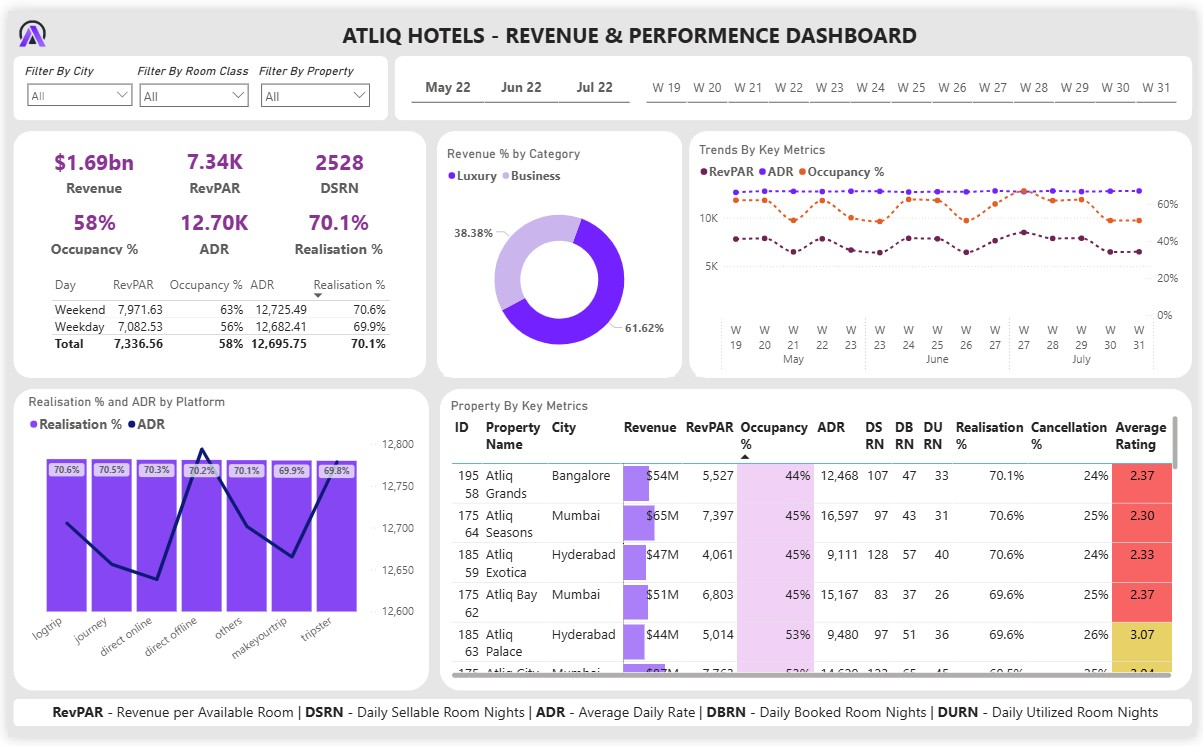

The page's visual inventory and layout, read from the dashboard file:
{"tool":"powerbi","page":{"name":"Dashboard","canvas":[1800,1100],"ordinal":0},"visuals":[{"type":"shape","box":[8,1042,1786,42],"z":0},{"type":"shape","box":[654.5,572.3,1140,458],"z":1000},{"type":"shape","box":[8.5,572.3,630,458],"z":2000},{"type":"shape","box":[1032,182,762,374],"z":3000},{"type":"shape","box":[649.9,182.3,372,374],"z":4000},{"type":"shape","box":[586,68,1208,98],"z":5000},{"type":"shape","box":[8,182,626,374],"z":6000},{"type":"shape","box":[8,68,568,98],"z":7000},{"type":"tableEx","title":"Property By Key Metrics","fields":{"Values":["dim_hotels.property_id","dim_hotels.property_name","dim_hotels.city","Key_Measures.Revenue","Key_Measures.RevPAR","Key_Measures.Occupancy %","Key_Measures.ADR","Key_Measures.DSRN","Key_Measures.DBRN","Key_Measures.DURN","Key_Measures.Realisation %","Key_Measures.Cancellation %"]},"box":[666,586,1112,430],"z":8000},{"type":"slicer","title":"Filter By City","fields":{"Values":["dim_hotels.city"]},"box":[21,79.8,178,72],"z":9000},{"type":"slicer","title":"Filter By Room Class","fields":{"Values":["dim_rooms.room_class"]},"box":[191,79.8,184,72],"z":10000},{"type":"slicer","fields":{"Values":["dim_date.mmm yy"]},"box":[586,86,382,60],"z":11000},{"type":"slicer","fields":{"Values":["dim_date.week no"]},"box":[942,86,852,60],"z":12000},{"type":"card","fields":{"Values":["Key_Measures.Revenue"]},"box":[38.7,197.1,184,88],"z":13000},{"type":"donutChart","title":"Revenue % by Category","fields":{"Category":["dim_hotels.category"],"Y":["Key_Measures.Revenue"]},"box":[659.9,204.3,350,350],"z":14000},{"type":"card","fields":{"Values":["Key_Measures.RevPAR"]},"box":[253.7,198.1,118,86],"z":15000},{"type":"card","fields":{"Values":["Key_Measures.ADR"]},"box":[242.7,294.2,140,80],"z":16000},{"type":"card","fields":{"Values":["Key_Measures.Realisation %"]},"box":[424.4,294.2,154,80],"z":17000},{"type":"card","fields":{"Values":["Key_Measures.DSRN"]},"box":[439.4,199.1,124,84],"z":18000},{"type":"card","fields":{"Values":["Key_Measures.Occupancy %"]},"box":[53.7,294.2,154,80],"z":19000},{"type":"lineChart","title":"Trends By Key Metrics","fields":{"Category":["dim_date.mmm yy.Variation.Date Hierarchy.Month","dim_date.week no"],"Y":["Key_Measures.RevPAR","Key_Measures.ADR"],"Y2":["Key_Measures.Occupancy %"]},"box":[1042,198,736,356],"z":20000},{"type":"lineClusteredColumnComboChart","title":"Realisation % and ADR by Platform","fields":{"Category":["fact_bookings.booking_platform"],"Y":["Key_Measures.Realisation %"],"Y2":["Key_Measures.ADR"]},"box":[26,580,594,430],"z":21000},{"type":"tableEx","fields":{"Values":["dim_date.day_type","Key_Measures.RevPAR","Key_Measures.Occupancy %","Key_Measures.ADR","Key_Measures.Realisation %"]},"box":[60,396,530,140],"z":22000},{"type":"textbox","box":[16,1042,1778,42],"z":23000},{"type":"slicer","title":"Filter By Property","fields":{"Values":["dim_hotels.property_name"]},"box":[375,79.8,184,72],"z":24000},{"type":"textbox","box":[140,8,1604,60],"z":25000},{"type":"image","box":[0,0,74,68],"z":25001}]}

Visuals, with their boxes in screenshot pixels (x1, y1, x2, y2), scaled from the page's 1800x1100 canvas onto the 1203x746 screenshot:
shape: Rect(5, 707, 1199, 735)
shape: Rect(437, 388, 1199, 699)
shape: Rect(6, 388, 427, 699)
shape: Rect(690, 123, 1199, 377)
shape: Rect(434, 124, 683, 377)
shape: Rect(392, 46, 1199, 113)
shape: Rect(5, 123, 424, 377)
shape: Rect(5, 46, 385, 113)
"Property By Key Metrics" tableEx: Rect(445, 397, 1188, 689)
"Filter By City" slicer: Rect(14, 54, 133, 103)
"Filter By Room Class" slicer: Rect(128, 54, 251, 103)
slicer - dim_date.mmm yy: Rect(392, 58, 647, 99)
slicer - dim_date.week no: Rect(630, 58, 1199, 99)
card - Key_Measures.Revenue: Rect(26, 134, 149, 193)
"Revenue % by Category" donutChart: Rect(441, 139, 675, 376)
card - Key_Measures.RevPAR: Rect(170, 134, 248, 193)
card - Key_Measures.ADR: Rect(162, 200, 256, 254)
card - Key_Measures.Realisation %: Rect(284, 200, 387, 254)
card - Key_Measures.DSRN: Rect(294, 135, 377, 192)
card - Key_Measures.Occupancy %: Rect(36, 200, 139, 254)
"Trends By Key Metrics" lineChart: Rect(696, 134, 1188, 376)
"Realisation % and ADR by Platform" lineClusteredColumnComboChart: Rect(17, 393, 414, 685)
tableEx - dim_date.day_type x Key_Measures.RevPAR: Rect(40, 269, 394, 364)
textbox: Rect(11, 707, 1199, 735)
"Filter By Property" slicer: Rect(251, 54, 374, 103)
textbox: Rect(94, 5, 1166, 46)
image: Rect(0, 0, 49, 46)
